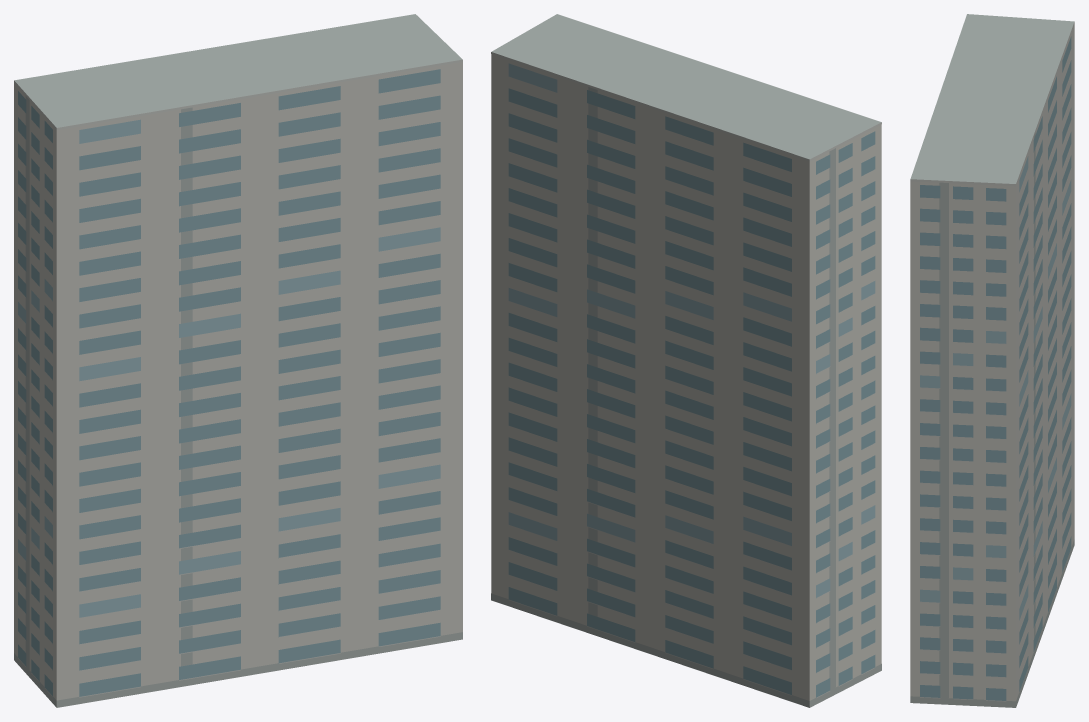
File: residential-0d8360a3-8d89-49e0-bbb3-a4d14cdc9be0.glb
3 renders of one model, left to right at view 1: azimuth 30°, elevation 25°; view 2: azimuth 150°, elevation 25°; view 3: azimuth 270°, elevation 25°, orthographic. The views are drawn at different scales.
Parts seen in each view (by area): view 1: residential-0d8360a3-8d89-49e0-bbb3-a4d14cdc9be0.tmp; view 2: residential-0d8360a3-8d89-49e0-bbb3-a4d14cdc9be0.tmp; view 3: residential-0d8360a3-8d89-49e0-bbb3-a4d14cdc9be0.tmp.
Boxes of the visible parts, bbox=[...] form: residential-0d8360a3-8d89-49e0-bbb3-a4d14cdc9be0.tmp: bbox=[14, 14, 462, 707]; residential-0d8360a3-8d89-49e0-bbb3-a4d14cdc9be0.tmp: bbox=[491, 14, 881, 707]; residential-0d8360a3-8d89-49e0-bbb3-a4d14cdc9be0.tmp: bbox=[910, 14, 1074, 707].
Bounding box in the file's own units: 42.49 × 61 × 17.33.
